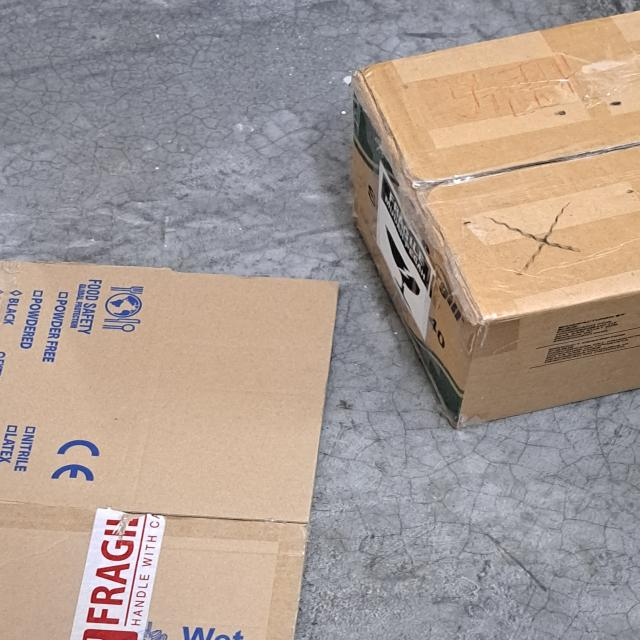cardboard: (0, 260, 337, 640), (344, 12, 640, 427)
